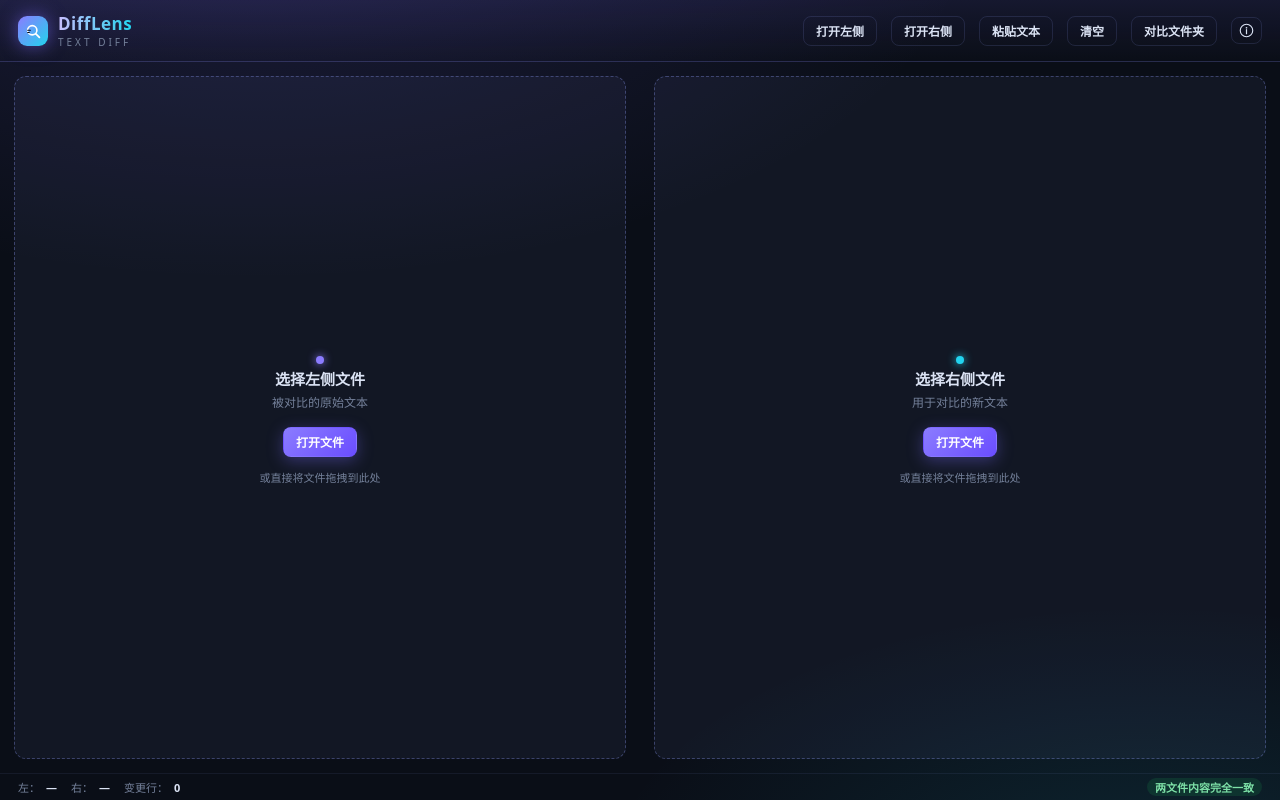
Test: App - 加载文件后的非空态 › 右侧打开文件后可导出报告
Click the button "打开右侧" at point(928, 30), box [891,16,965,46]
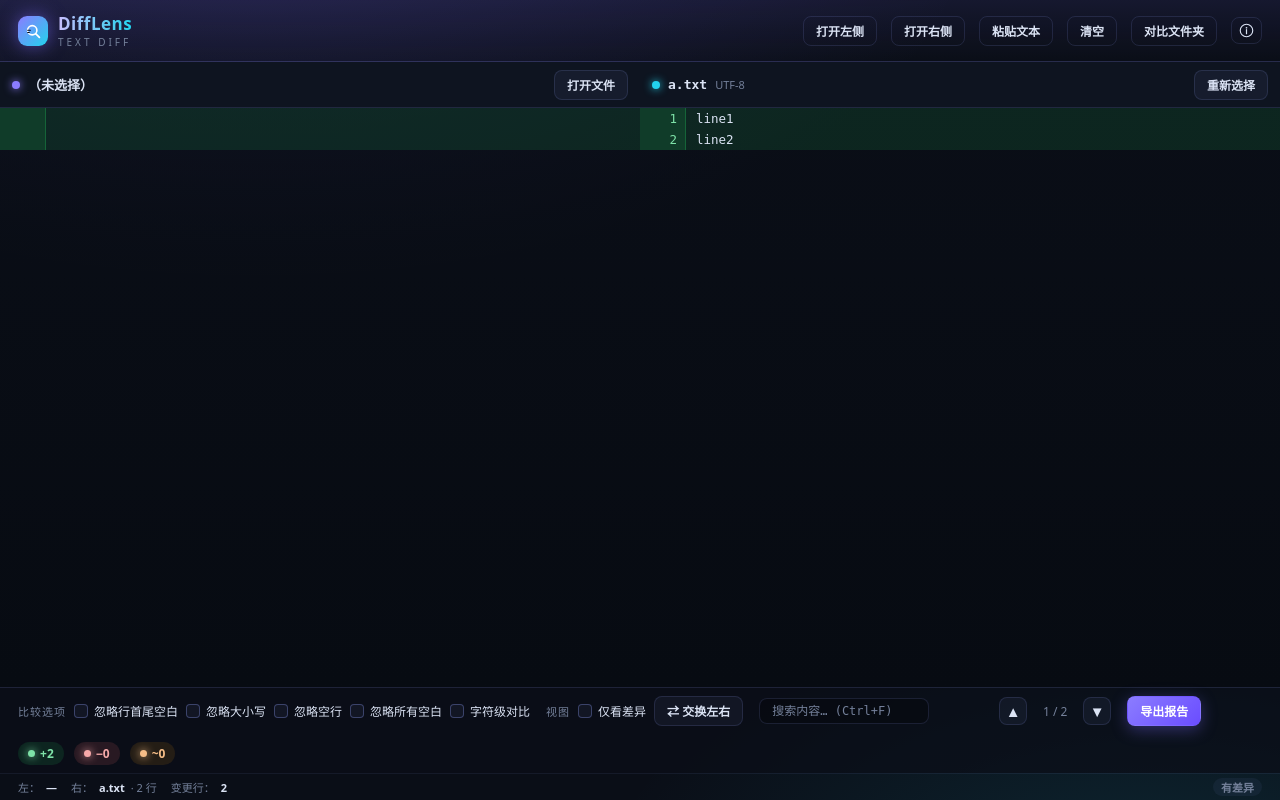
Check: the button "导出报告" is shown, box [1127,696,1201,726]
